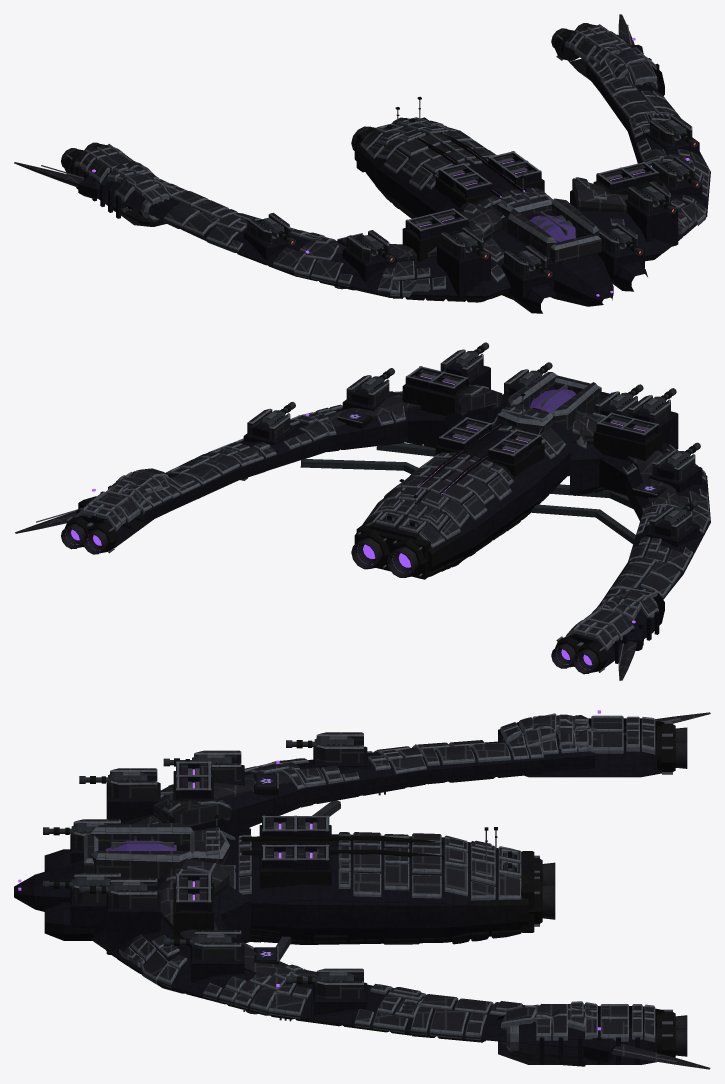
Rendered from eris-schiff5.glb.
3 renders of one model, top to bottom at view 1: azimuth 30°, elevation 25°; view 2: azimuth 150°, elevation 25°; view 3: azimuth 270°, elevation 25°, orthographic. The views are drawn at different scales.
Visible parts, largest first — view 1: Hull_LOD0; view 2: Hull_LOD0, EngineLight; view 3: Hull_LOD0, Laser_01, Laser_08.
Part boxes in pixels (box(x1,y1,x2,y2)): Hull_LOD0: box(14, 14, 710, 313); Hull_LOD0: box(15, 349, 710, 680); EngineLight: box(65, 529, 592, 669); Hull_LOD0: box(14, 710, 710, 1069); Laser_01: box(43, 876, 110, 890); Laser_08: box(286, 736, 353, 749).
Size of the model in its own units: 88.3 by 13.39 by 72.88.
Materials: 6 (4 with a texture image).
